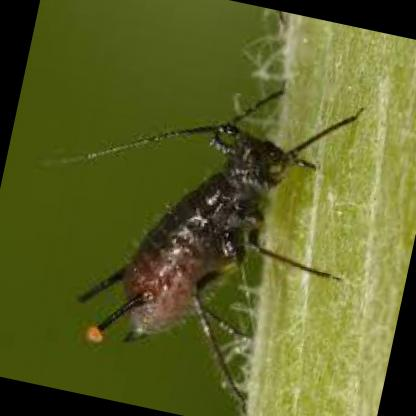uroleucon compositae: (50, 99, 362, 342)
